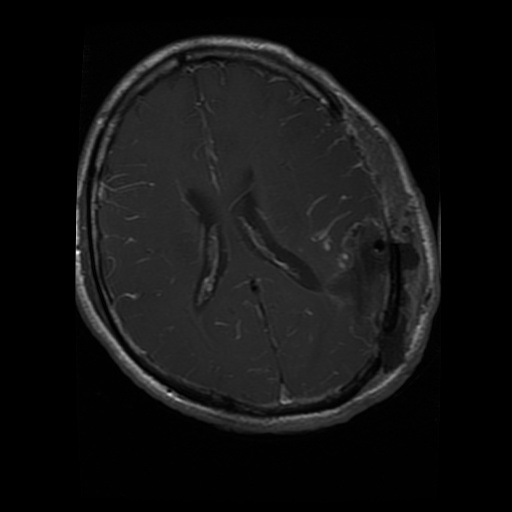glioma: (327, 218, 420, 371)
